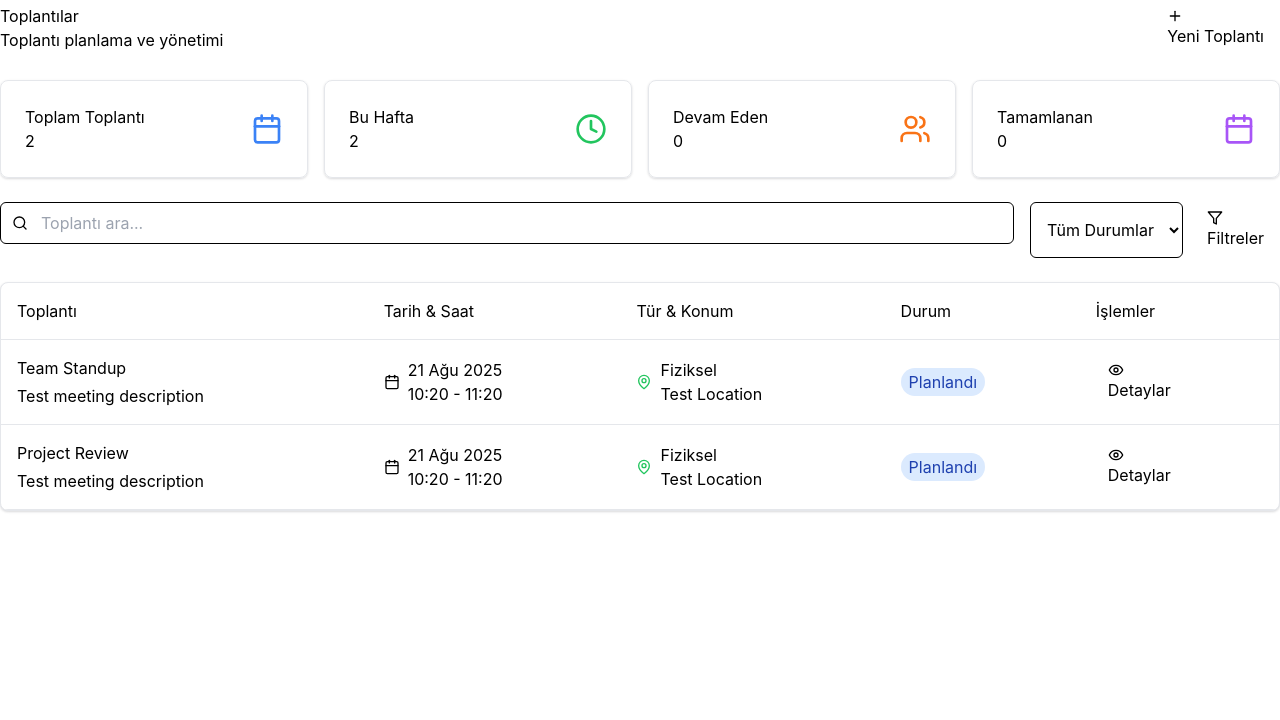
Test: Meetings Page Integration › allows viewing meeting details
The image size is (1280, 720).
Expected: the text "Team Standup" is shown, x1=17 y1=358 x2=126 y2=378
# Click details button for first meeting
Click the button "Detaylar" in the row of "Team Standup": (1139, 382) x1=1096 y1=358 x2=1183 y2=406
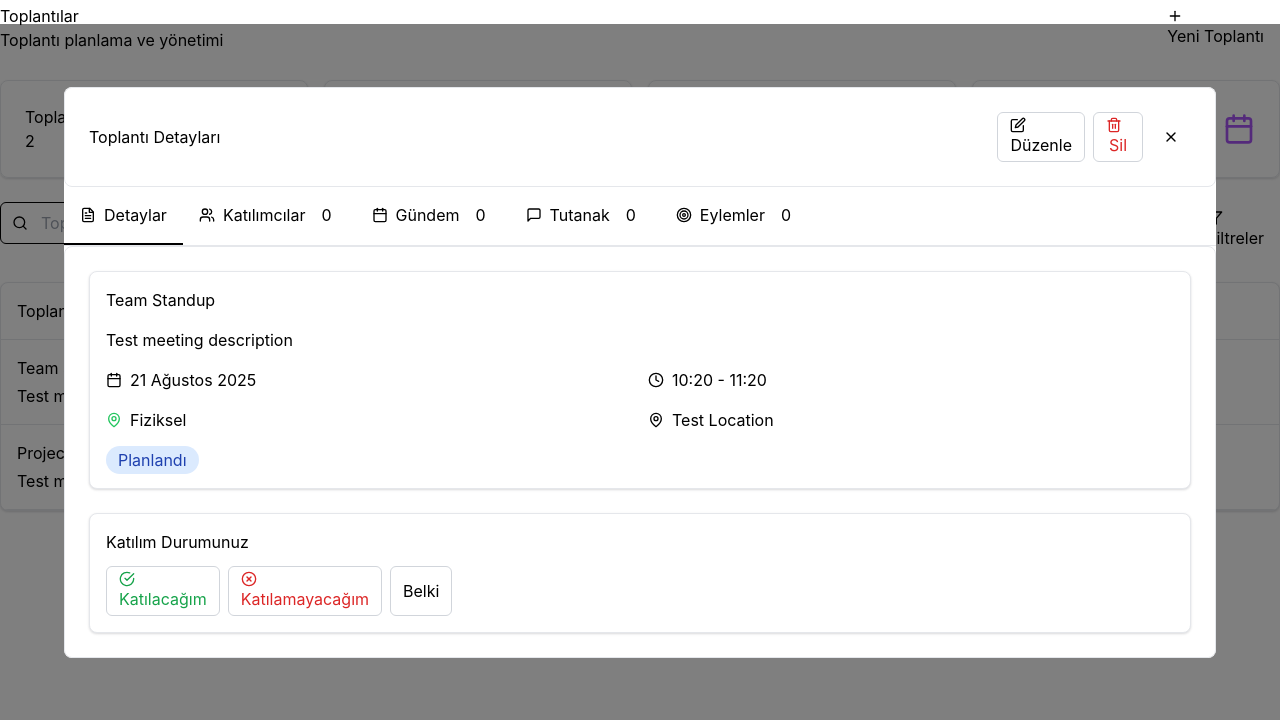
Expected: the heading "Toplantı Detayları" is shown, x1=89 y1=124 x2=220 y2=148
